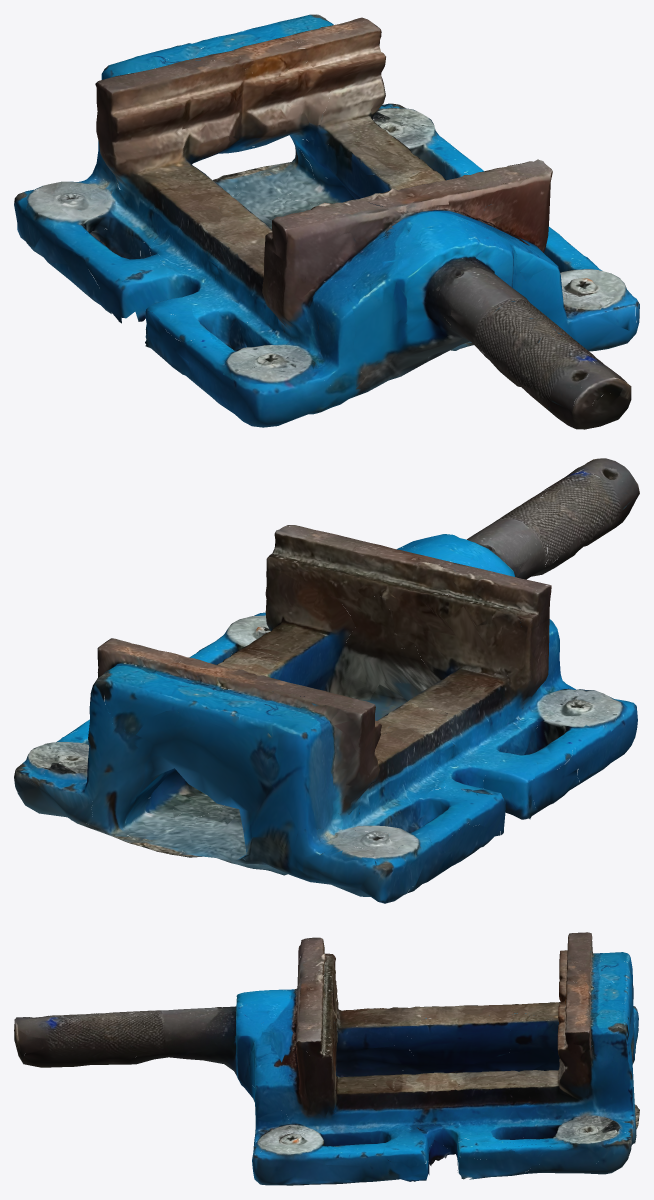
File: hand_cump.glb
The picture shows the model from 3 angles, top to bottom: view 1: azimuth 30°, elevation 25°; view 2: azimuth 150°, elevation 25°; view 3: azimuth 270°, elevation 25°; orthographic projection. The views are drawn at different scales.
Parts seen in each view (by area): view 1: Mesh_0; view 2: Mesh_0; view 3: Mesh_0.
Part boxes in pixels (left/top/right/bottom): Mesh_0: left=14, top=14, right=639, bottom=429; Mesh_0: left=14, top=458, right=639, bottom=903; Mesh_0: left=14, top=932, right=639, bottom=1185.
Size of the model in its own units: 0.5336 by 0.2395 by 0.9621.
1 material, 1 textured.
